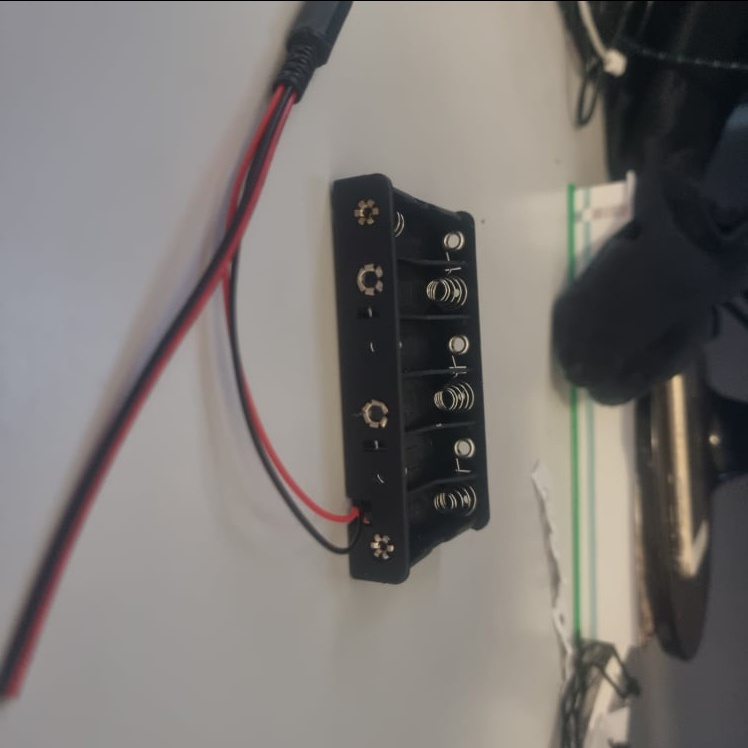BATTERY BOX: (323, 171, 494, 584)
